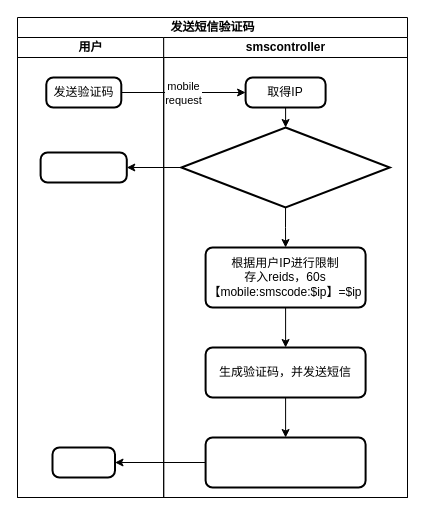
Image size: 425x515. Some labels were removed from this diagram. Here are the shapes that lost their labels. From the top down, the centre of each, then its label:
At pixel 83 167: "发送频率太高".
At pixel 285 167: "判断redis中是否存在key： 【mobile:smscode:$ip】".
At pixel 83 462: "发送成功".
At pixel 285 462: "生成验证码存入redis，30m 【mobile:smscode:$mobile】=$code".
